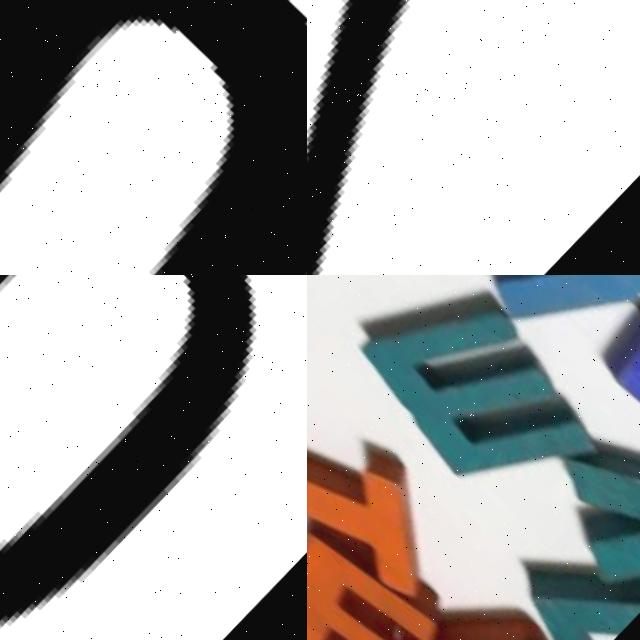7: (307, 0, 640, 275)
B: (587, 275, 640, 501)
E: (307, 517, 455, 640)
I: (307, 357, 481, 640)
K: (542, 415, 640, 612)
M: (327, 275, 604, 519)
U: (0, 0, 307, 275)
V: (407, 275, 640, 387)
W: (394, 589, 574, 640)
